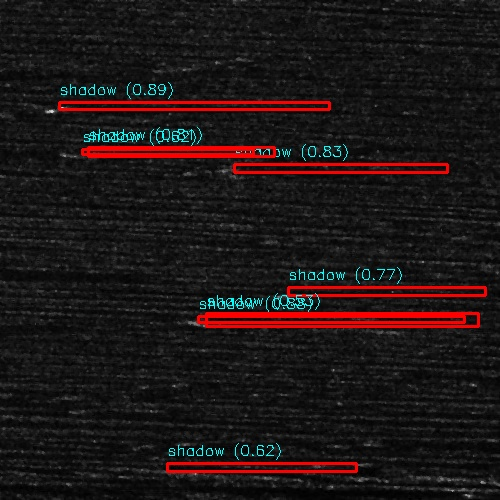rock: (204, 163, 287, 172), (36, 101, 109, 108), (73, 149, 126, 156), (166, 317, 207, 322)
shadow: (73, 101, 373, 108), (246, 163, 478, 172), (100, 149, 325, 156), (0, 268, 126, 273), (187, 317, 268, 322)
